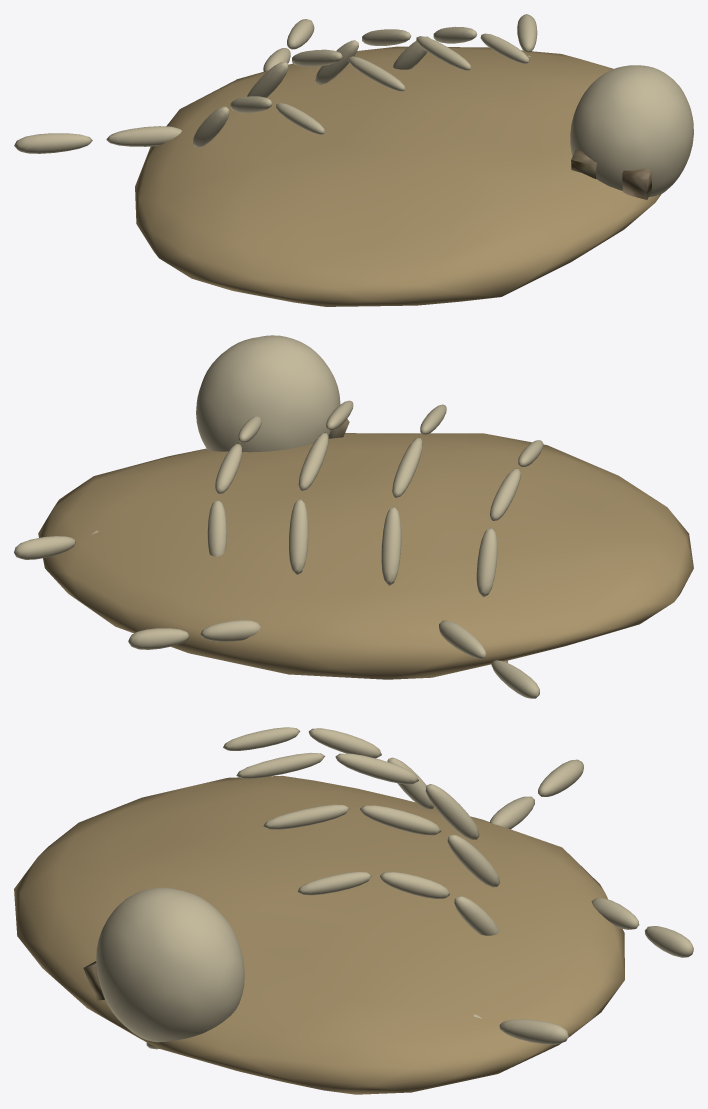
File: bone_pile.glb
3 renders of one model, top to bottom at view 1: azimuth 30°, elevation 25°; view 2: azimuth 150°, elevation 25°; view 3: azimuth 270°, elevation 25°, orthographic. The views are drawn at different scales.
Parts seen in each view (by area): view 1: bone_pile; view 2: bone_pile; view 3: bone_pile.
Part boxes in pixels (box(x1,y1,x2,y2)): bone_pile: box(14, 14, 693, 306); bone_pile: box(14, 335, 693, 698); bone_pile: box(14, 727, 693, 1094).
Size of the model in its own units: 1.17 by 0.3826 by 1.1.
Materials: 3 (3 with a texture image).
